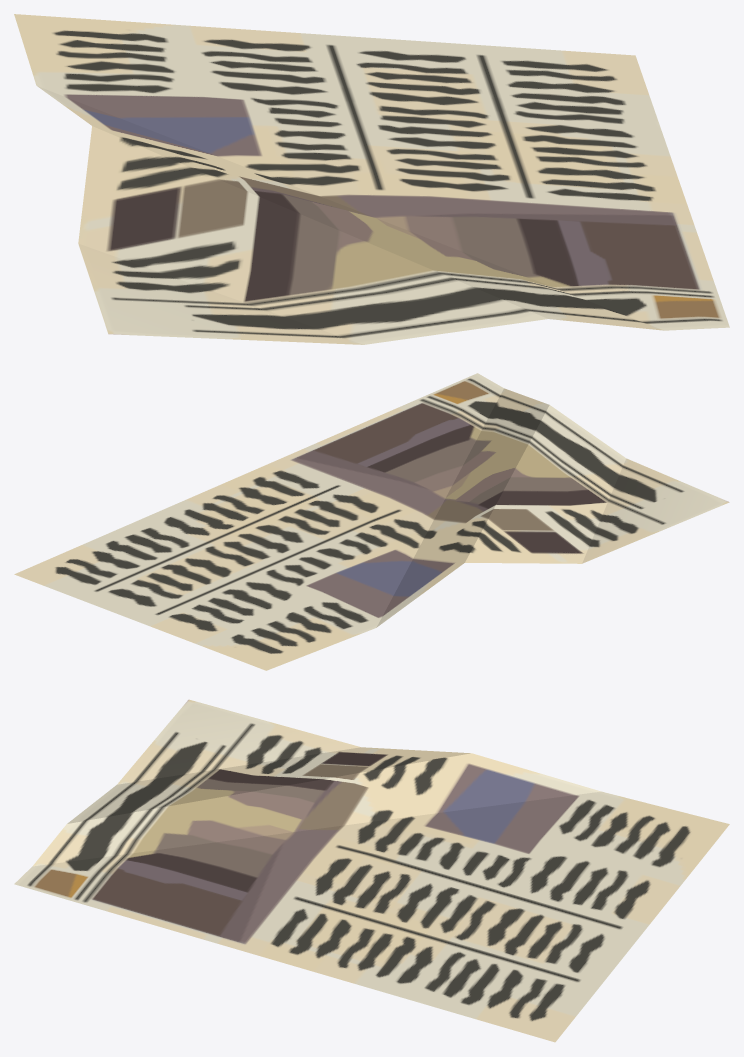
The model's file is SM_FX_Paper_Mesh_02.fbx.
3 views of the same model, one above another, from view 1: azimuth 30°, elevation 25°; view 2: azimuth 150°, elevation 25°; view 3: azimuth 270°, elevation 25° (orthographic). The views are drawn at different scales.
Visible parts, largest first — view 1: SM_FX_Paper_Mesh_02; view 2: SM_FX_Paper_Mesh_02; view 3: SM_FX_Paper_Mesh_02.
Part boxes in pixels (left/top/right/bottom): SM_FX_Paper_Mesh_02: left=14, top=14, right=729, bottom=344; SM_FX_Paper_Mesh_02: left=14, top=373, right=729, bottom=670; SM_FX_Paper_Mesh_02: left=14, top=699, right=729, bottom=1042.
Bounding box in the file's own units: 61.72 × 8.99 × 69.46.
